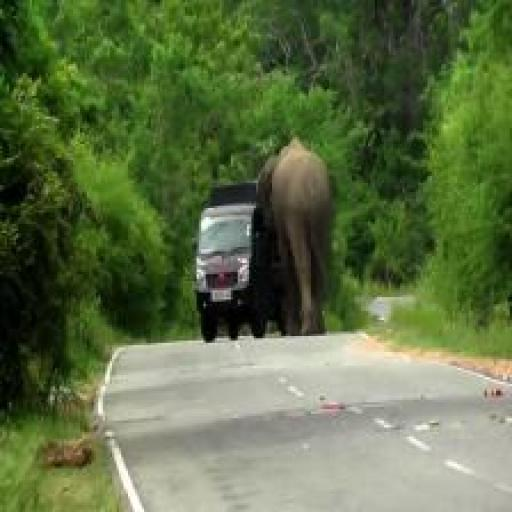Elephant: (236, 114, 346, 345)
